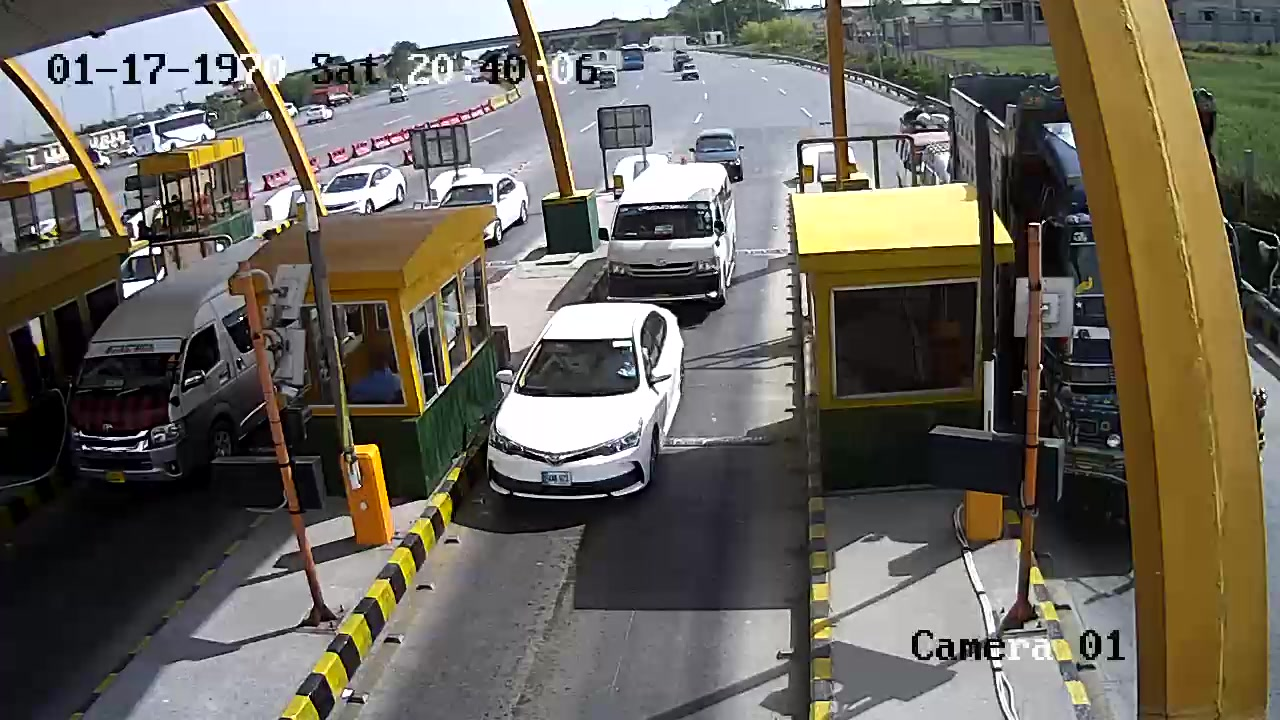F1: (479, 296, 697, 508)
F2: (585, 155, 745, 309)
